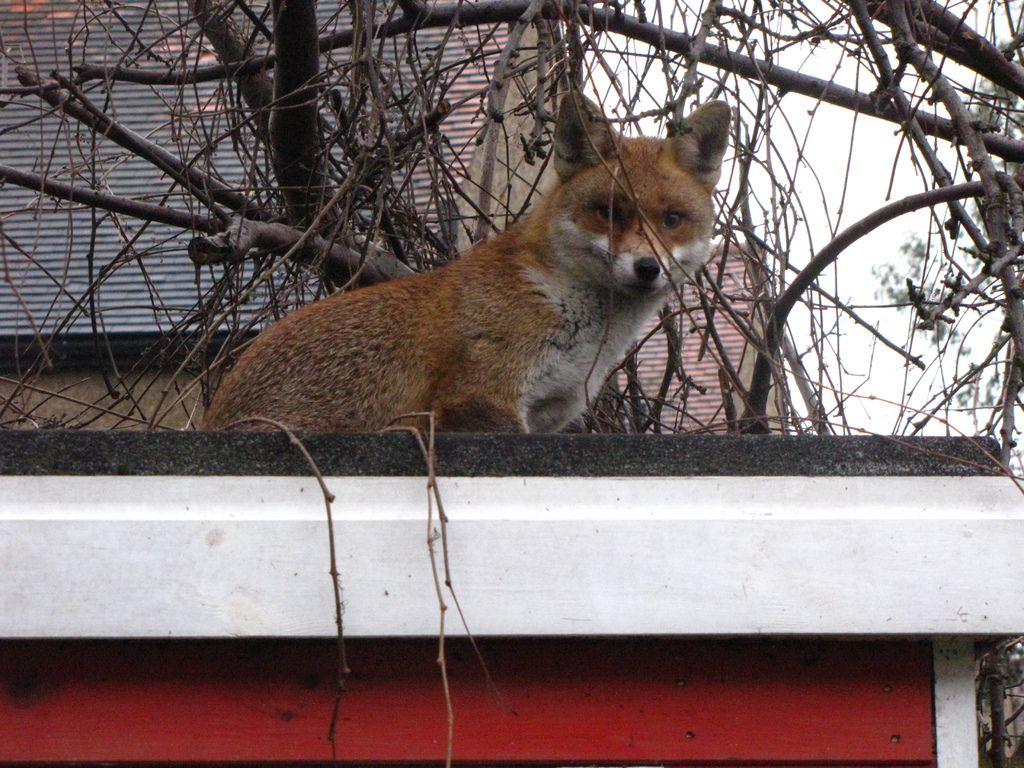Tree: (0, 1, 1023, 766)
